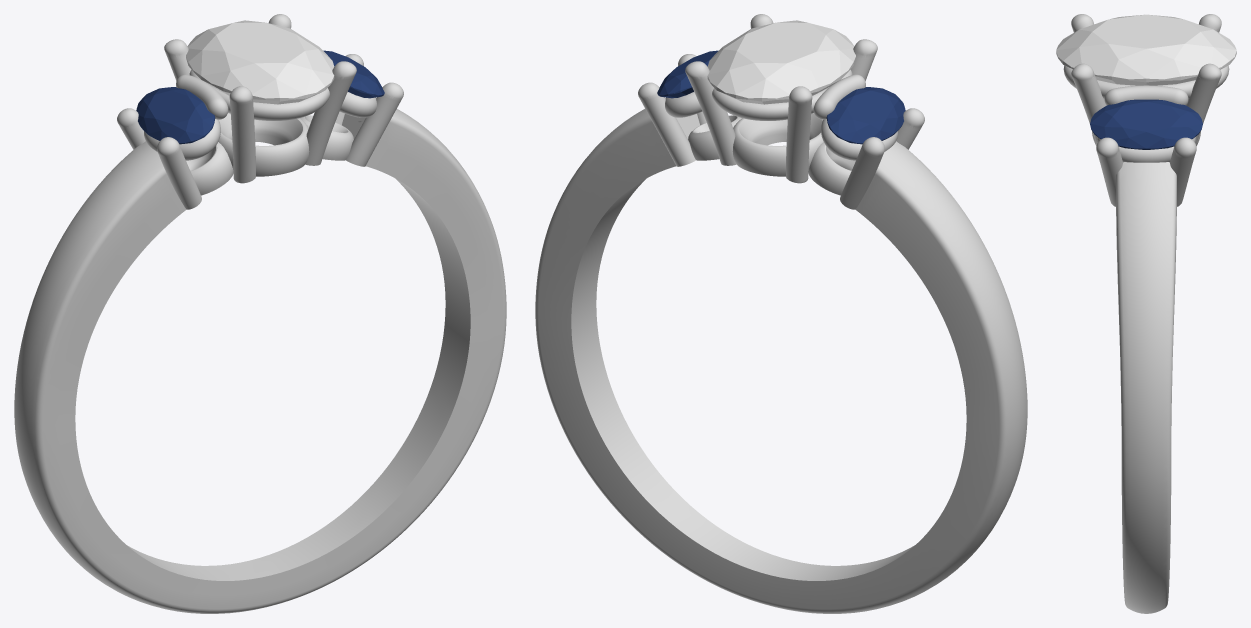
File: Amanda3stonePT.glb
The picture shows the model from 3 angles, left to right: view 1: azimuth 30°, elevation 25°; view 2: azimuth 150°, elevation 25°; view 3: azimuth 270°, elevation 25°; orthographic projection.
Parts seen in each view (by area): view 1: Amanda YG for 3d model, Amanda dia for 3d model, Amanda tanzanite for 3d model.001, Amanda tanzanite for 3d model; view 2: Amanda YG for 3d model, Amanda dia for 3d model, Amanda tanzanite for 3d model.001, Amanda tanzanite for 3d model; view 3: Amanda YG for 3d model, Amanda dia for 3d model, Amanda tanzanite for 3d model.
Part boxes in pixels (x1=…): Amanda YG for 3d model: x1=14, y1=14, x2=506, y2=613; Amanda dia for 3d model: x1=186, y1=20, x2=334, y2=104; Amanda tanzanite for 3d model.001: x1=136, y1=87, x2=215, y2=144; Amanda tanzanite for 3d model: x1=323, y1=50, x2=384, y2=98; Amanda YG for 3d model: x1=535, y1=14, x2=1027, y2=613; Amanda dia for 3d model: x1=707, y1=20, x2=855, y2=104; Amanda tanzanite for 3d model.001: x1=826, y1=87, x2=905, y2=144; Amanda tanzanite for 3d model: x1=657, y1=50, x2=718, y2=98; Amanda YG for 3d model: x1=1063, y1=14, x2=1229, y2=613; Amanda dia for 3d model: x1=1056, y1=14, x2=1236, y2=85; Amanda tanzanite for 3d model: x1=1090, y1=99, x2=1202, y2=149.
Size of the model in its own units: 24.21 by 27.21 by 8.
